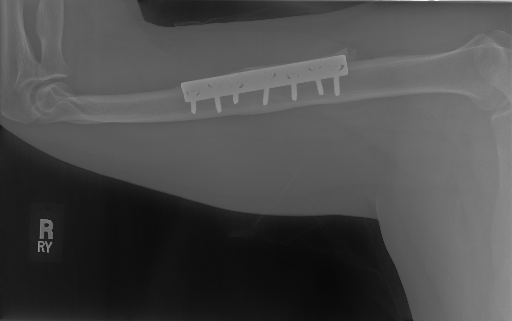implant: (179, 53, 349, 113)
